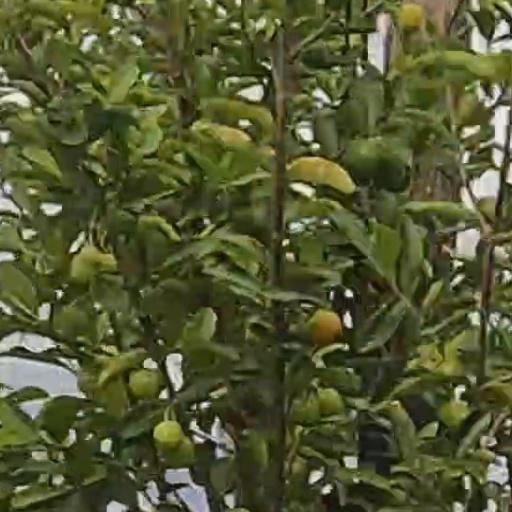acerola_verde: (347, 139, 379, 177), (384, 147, 410, 189), (132, 369, 160, 399), (294, 397, 321, 426), (156, 422, 182, 449), (321, 391, 343, 416)
acerola_vermelha: (309, 312, 344, 346)
